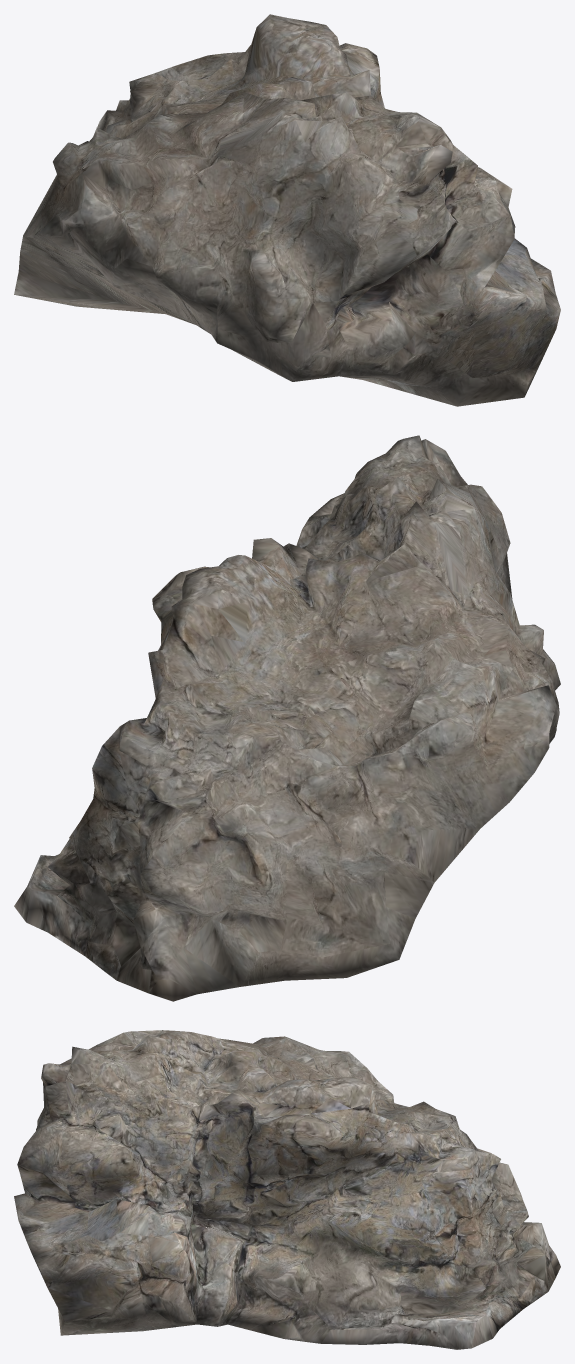
File: boulder_a_lod1.glb
3 renders of one model, top to bottom at view 1: azimuth 30°, elevation 25°; view 2: azimuth 150°, elevation 25°; view 3: azimuth 270°, elevation 25°, orthographic. The views are drawn at different scales.
Visible parts, largest first — view 1: boulder_a_lod1; view 2: boulder_a_lod1; view 3: boulder_a_lod1.
Boxes of the visible parts, x1,y1,x2,y2 form: boulder_a_lod1: (14, 14, 560, 406); boulder_a_lod1: (14, 435, 560, 1001); boulder_a_lod1: (14, 1030, 560, 1349).
Bounding box in the file's own units: 3.83 × 2.71 × 5.39.
Materials: 1 (1 with a texture image).
